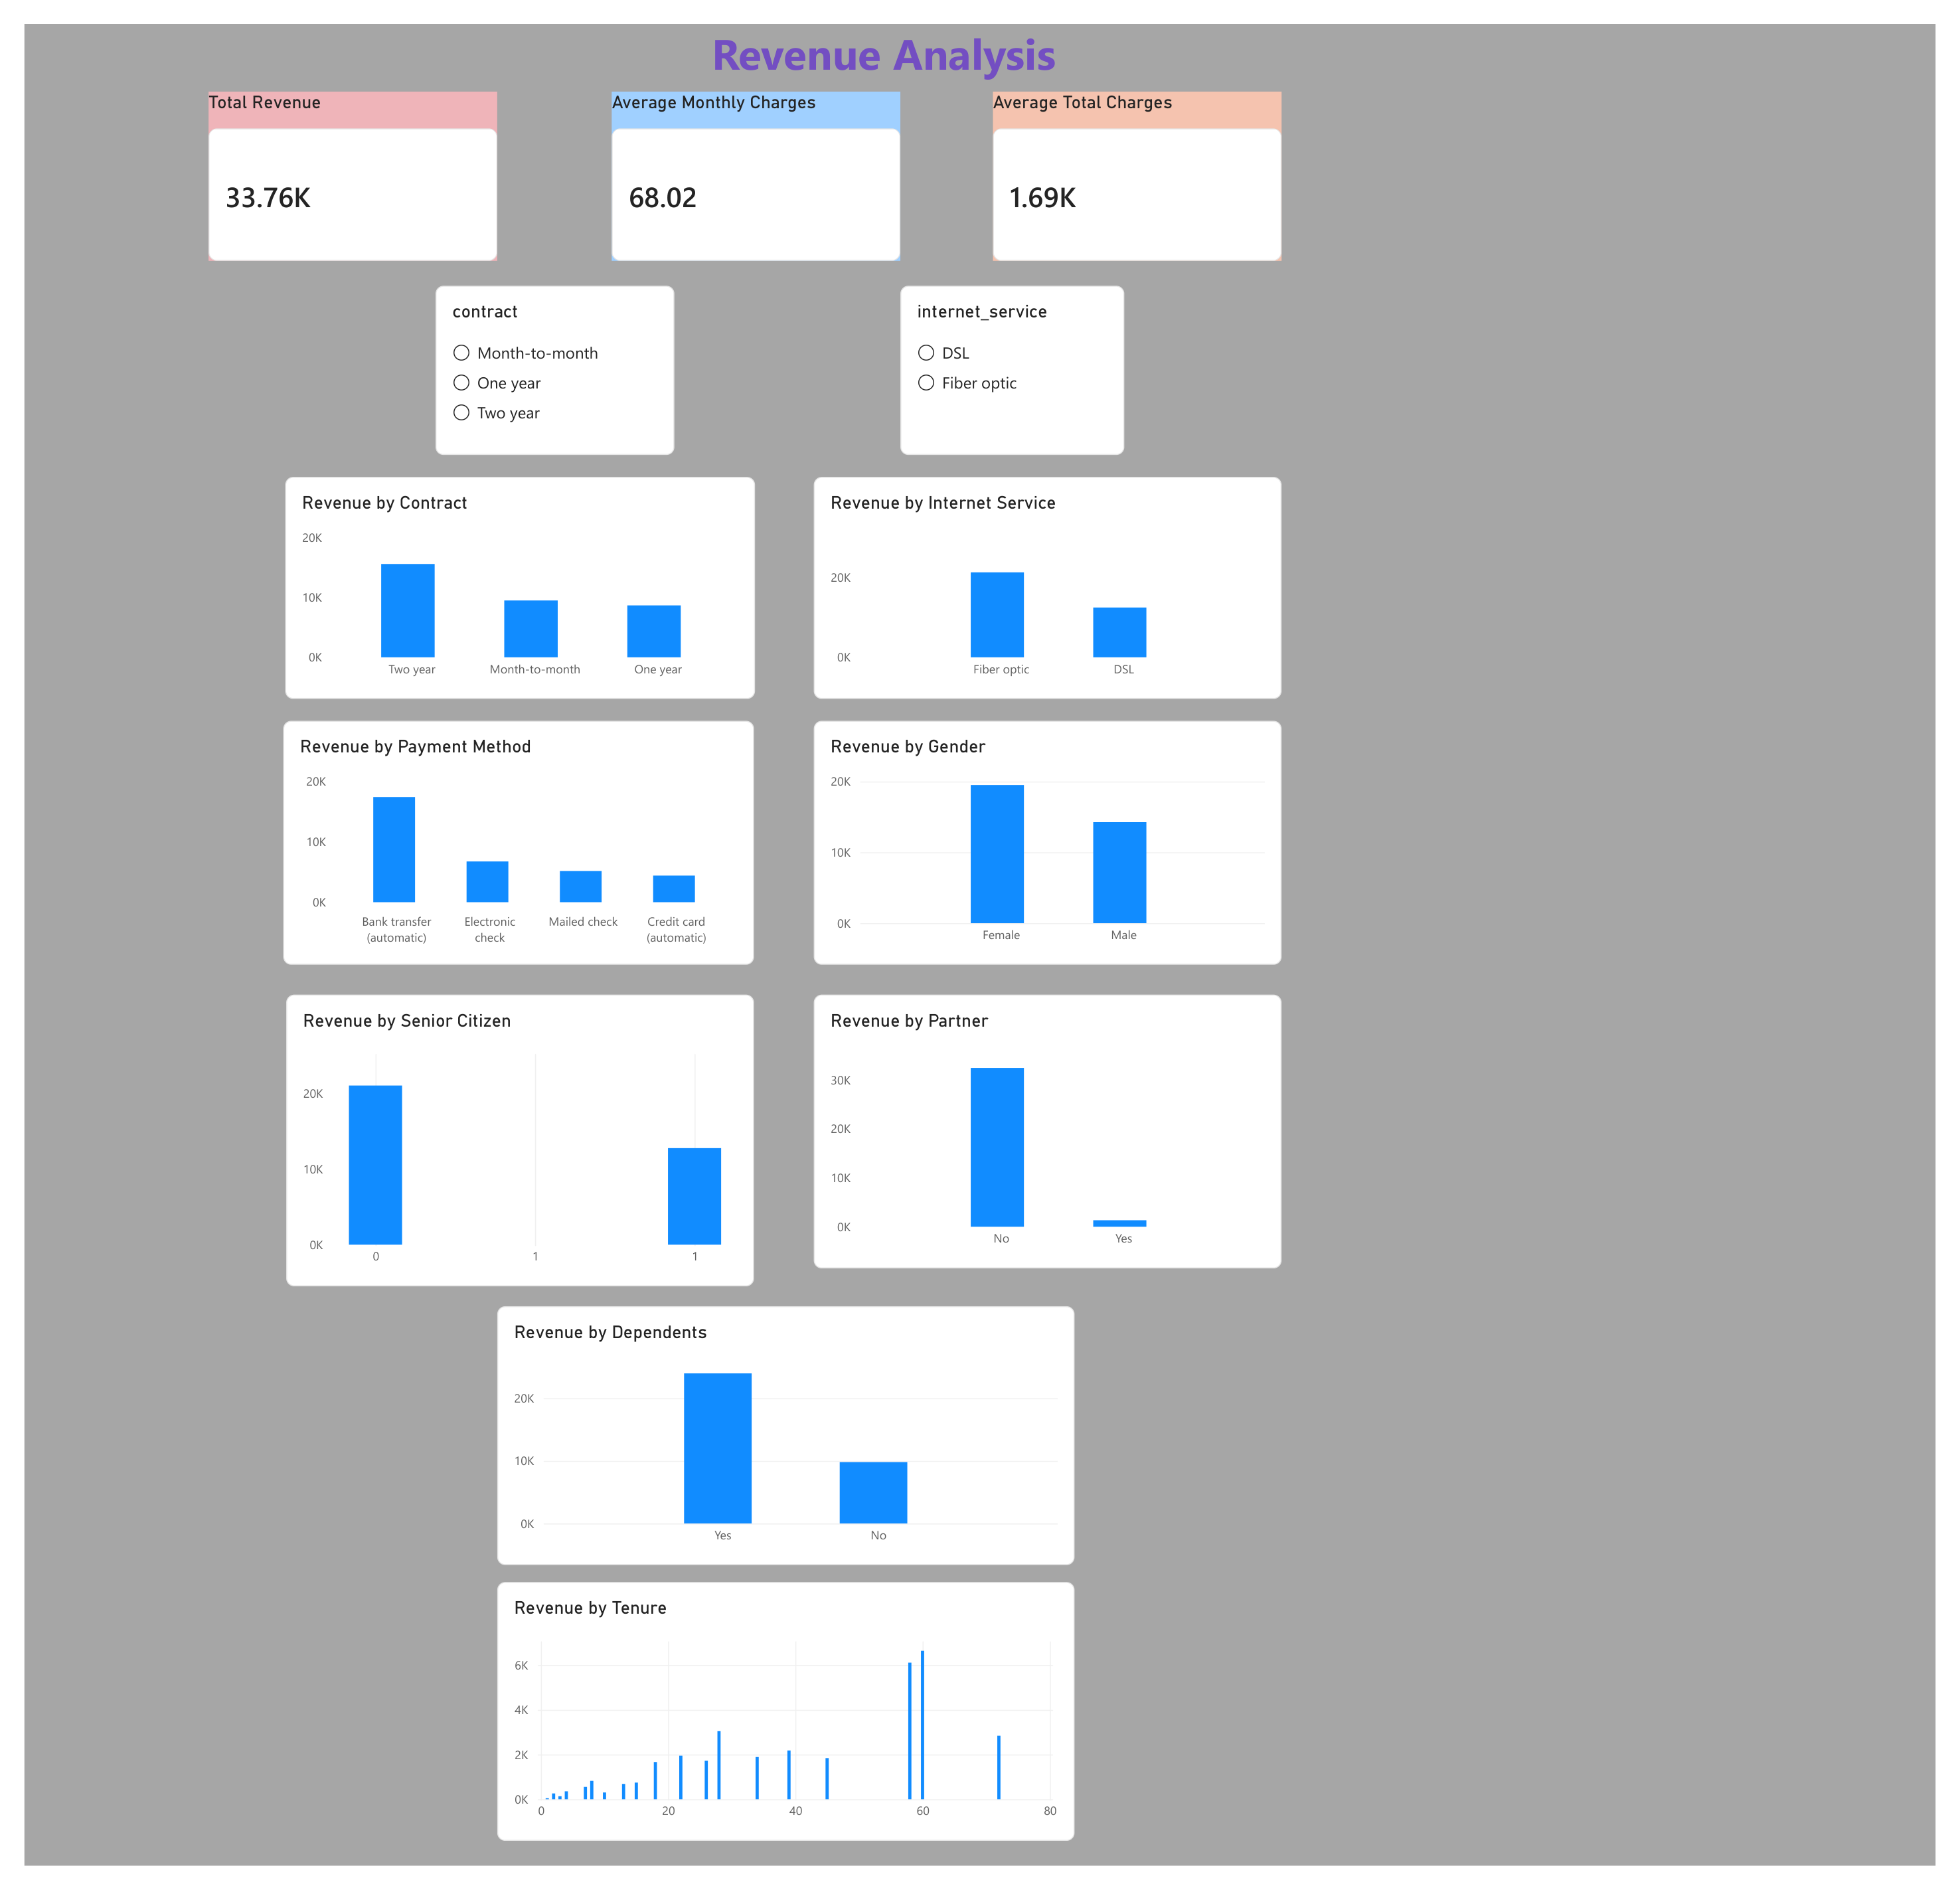

The dashboard page shown, as its layout file describes it:
{"tool":"powerbi","page":{"name":"Revenue Analysis","canvas":[1920,1850],"ordinal":2},"visuals":[{"type":"textbox","box":[0,0,1585,68.3],"z":0},{"type":"cardVisual","title":"Total Revenue","fields":{"Data":["customer_churn_data.Total Revenue"]},"box":[185,67.5,290,170],"z":1000},{"type":"cardVisual","title":"Average Monthly Charges","fields":{"Data":["customer_churn_data.Avg Monthly Charges"]},"box":[590,67.5,290,170],"z":2000},{"type":"cardVisual","title":"Average Total Charges","fields":{"Data":["customer_churn_data.Avg Total Charges"]},"box":[972.5,67.5,290,170],"z":3000},{"type":"clusteredColumnChart","title":"Revenue by Contract","fields":{"Category":["customer_churn_data.contract"],"Y":["Sum(customer_churn_data.total_charges)"]},"box":[261.7,455,472.5,222.5],"z":4000},{"type":"clusteredColumnChart","title":"Revenue by Internet Service","fields":{"Category":["customer_churn_data.internet_service"],"Y":["Sum(customer_churn_data.total_charges)"]},"box":[792.5,455,470,222.5],"z":5000},{"type":"clusteredColumnChart","title":"Revenue by Payment Method","fields":{"Category":["customer_churn_data.payment_method"],"Y":["Sum(customer_churn_data.total_charges)"]},"box":[260,700,472.5,245],"z":6000},{"type":"clusteredColumnChart","title":"Revenue by Senior Citizen","fields":{"Category":["customer_churn_data.senior_citizen"],"Y":["Sum(customer_churn_data.total_charges)"]},"box":[262.5,975,470,292.5],"z":7000},{"type":"clusteredColumnChart","title":"Revenue by Partner","fields":{"Category":["customer_churn_data.partner"],"Y":["Sum(customer_churn_data.total_charges)"]},"box":[792.5,975,470,275],"z":8000},{"type":"clusteredColumnChart","title":"Revenue by Dependents","fields":{"Category":["customer_churn_data.dependents"],"Y":["Sum(customer_churn_data.total_charges)"]},"box":[475,1287.5,580,260],"z":9000},{"type":"clusteredColumnChart","title":"Revenue by Tenure","fields":{"Category":["customer_churn_data.tenure_months"],"Y":["Sum(customer_churn_data.total_charges)"]},"box":[475,1565,580,260],"z":10000},{"type":"listSlicer","fields":{"Values":["customer_churn_data.contract"]},"box":[412.5,262.5,240,170],"z":11000},{"type":"listSlicer","fields":{"Values":["customer_churn_data.internet_service"]},"box":[880,262.5,225,170],"z":12000},{"type":"clusteredColumnChart","title":"Revenue by Gender","fields":{"Category":["customer_churn_data.gender"],"Y":["Sum(customer_churn_data.total_charges)"]},"box":[792.5,700,470,245],"z":13000}]}

Visuals, with their boxes in screenshot pixels (x1, y1, x2, y2), scaled from the page's 1920x1850 canvas onto the 1960x1890 screenshot:
textbox: <region>0, 0, 1618, 70</region>
"Total Revenue" cardVisual: <region>189, 69, 485, 242</region>
"Average Monthly Charges" cardVisual: <region>602, 69, 898, 242</region>
"Average Total Charges" cardVisual: <region>993, 69, 1289, 242</region>
"Revenue by Contract" clusteredColumnChart: <region>267, 465, 750, 692</region>
"Revenue by Internet Service" clusteredColumnChart: <region>809, 465, 1289, 692</region>
"Revenue by Payment Method" clusteredColumnChart: <region>266, 715, 748, 966</region>
"Revenue by Senior Citizen" clusteredColumnChart: <region>268, 996, 748, 1295</region>
"Revenue by Partner" clusteredColumnChart: <region>809, 996, 1289, 1277</region>
"Revenue by Dependents" clusteredColumnChart: <region>485, 1316, 1077, 1581</region>
"Revenue by Tenure" clusteredColumnChart: <region>485, 1599, 1077, 1865</region>
listSlicer - customer_churn_data.contract: <region>421, 268, 666, 442</region>
listSlicer - customer_churn_data.internet_service: <region>898, 268, 1128, 442</region>
"Revenue by Gender" clusteredColumnChart: <region>809, 715, 1289, 966</region>
